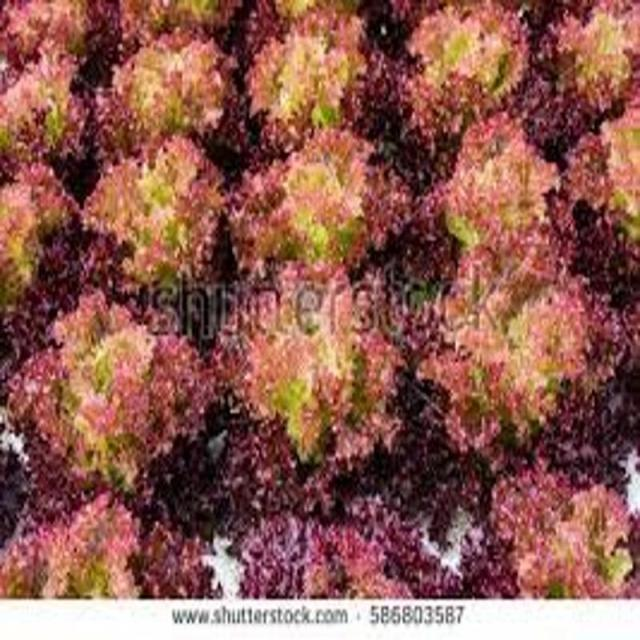Lettuce: (408, 250, 640, 475), (205, 263, 422, 502), (7, 280, 215, 512), (230, 120, 422, 278), (78, 130, 234, 298), (233, 0, 395, 151), (461, 465, 640, 601), (0, 490, 220, 598), (420, 105, 575, 258), (238, 497, 455, 603), (392, 0, 548, 135), (0, 150, 88, 345), (106, 30, 242, 155), (0, 43, 96, 185), (568, 93, 640, 255), (550, 0, 640, 125), (0, 0, 110, 71), (115, 0, 252, 40)
